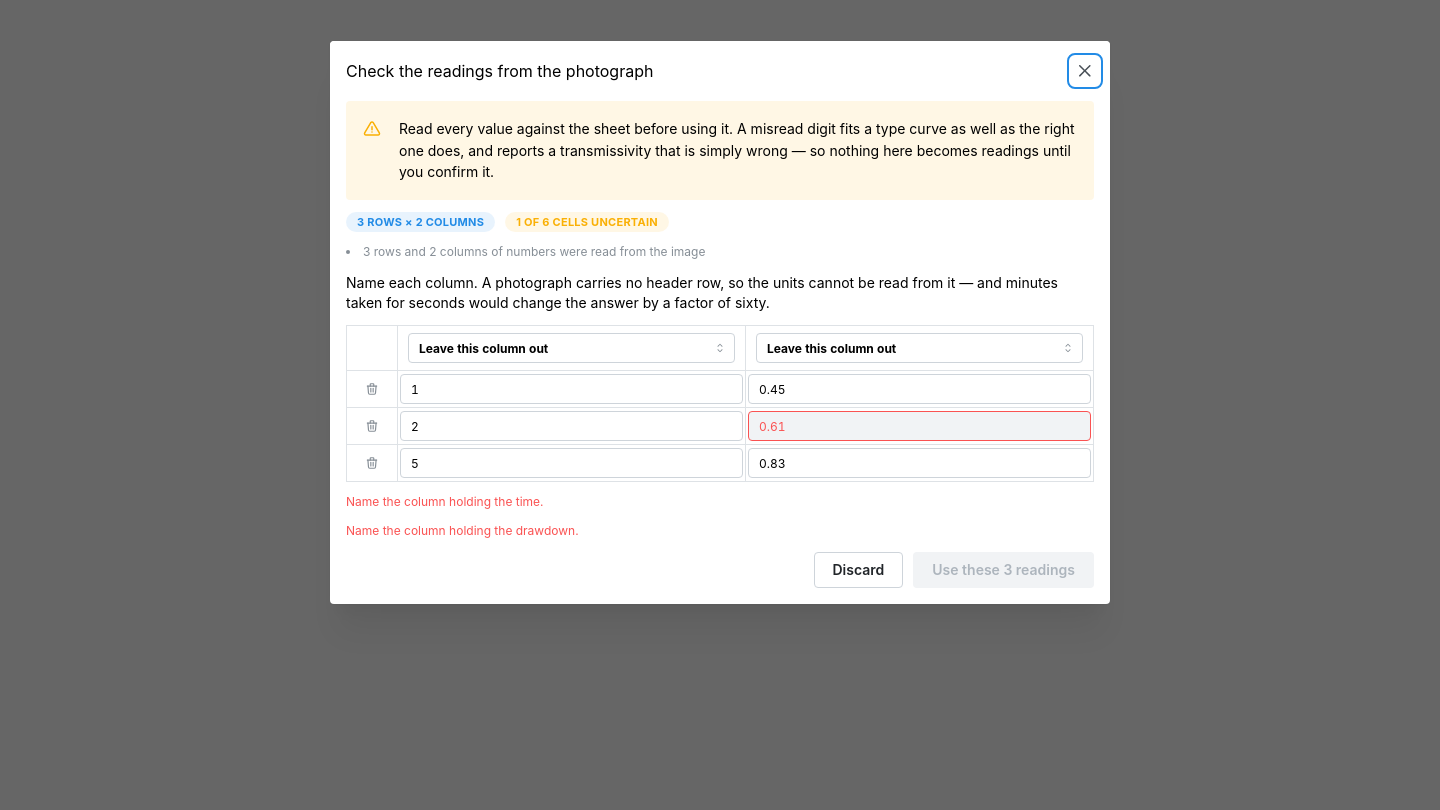
Test: OCRGrid › refuses a cell that is not a number
This screenshot has width=1440, height=810.
Click the field named "Column 1" at (572, 348), box [408, 333, 735, 363]
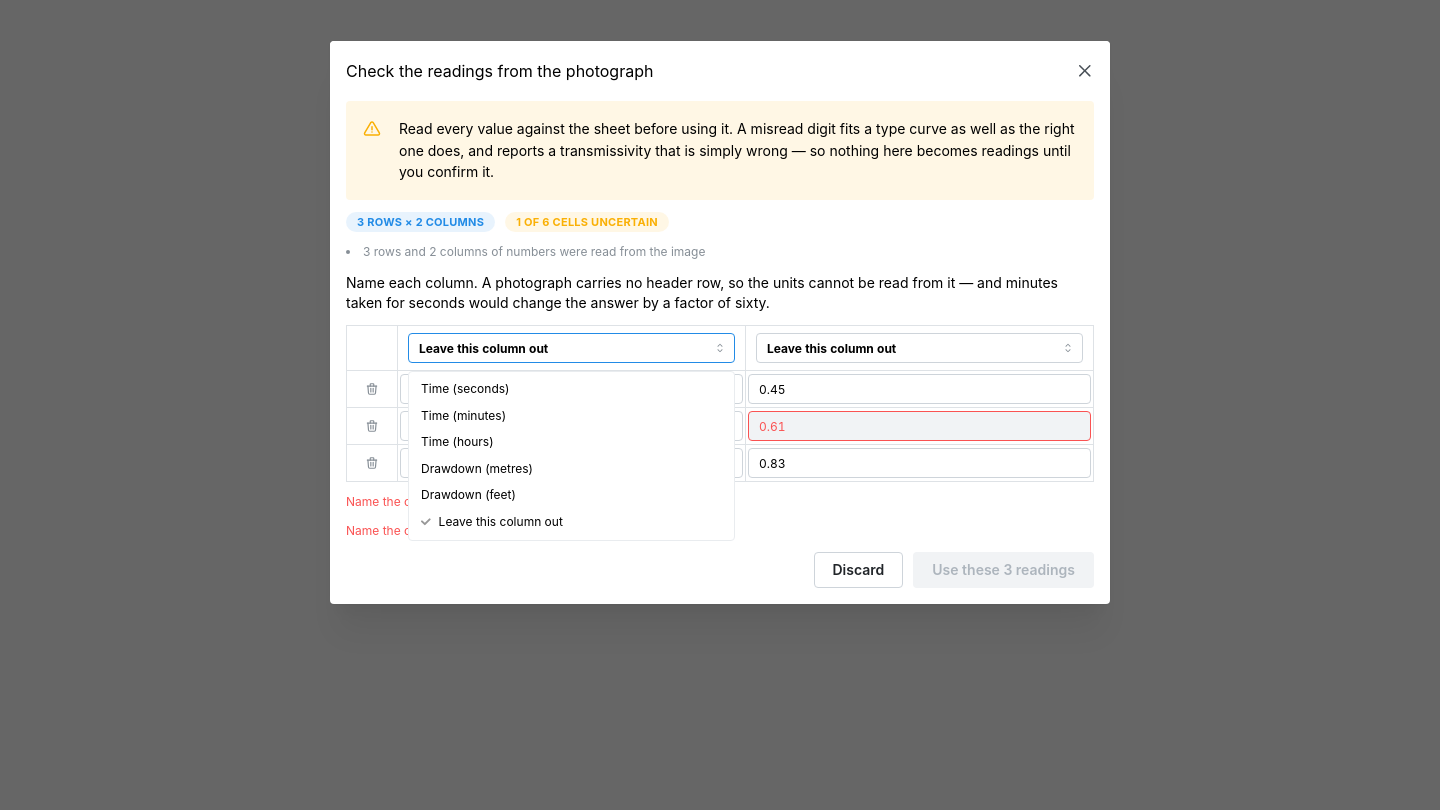
Click the option "Time (minutes)" at (464, 415), box [421, 408, 506, 422]
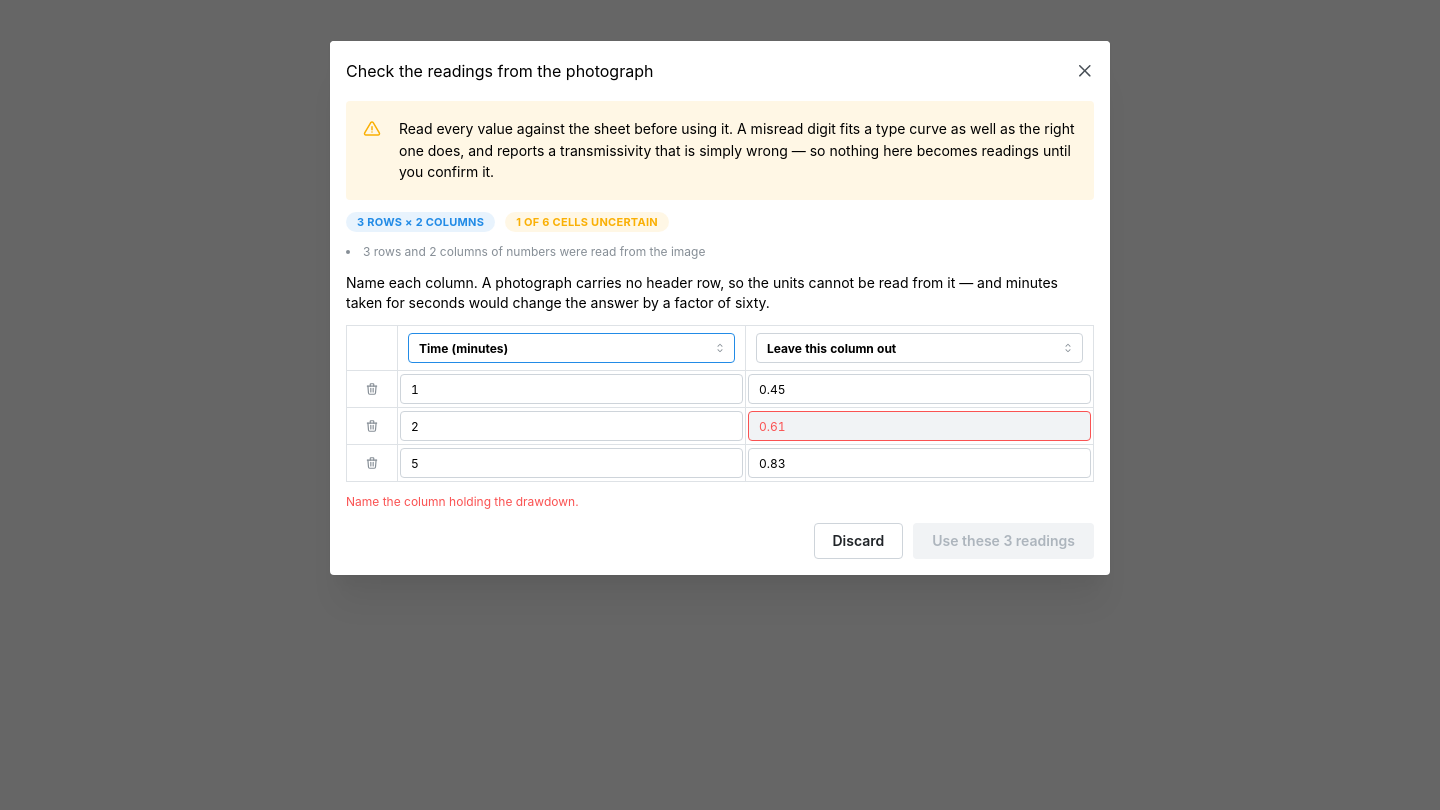
Click the field named "Column 2" at (920, 348), box [756, 333, 1083, 363]
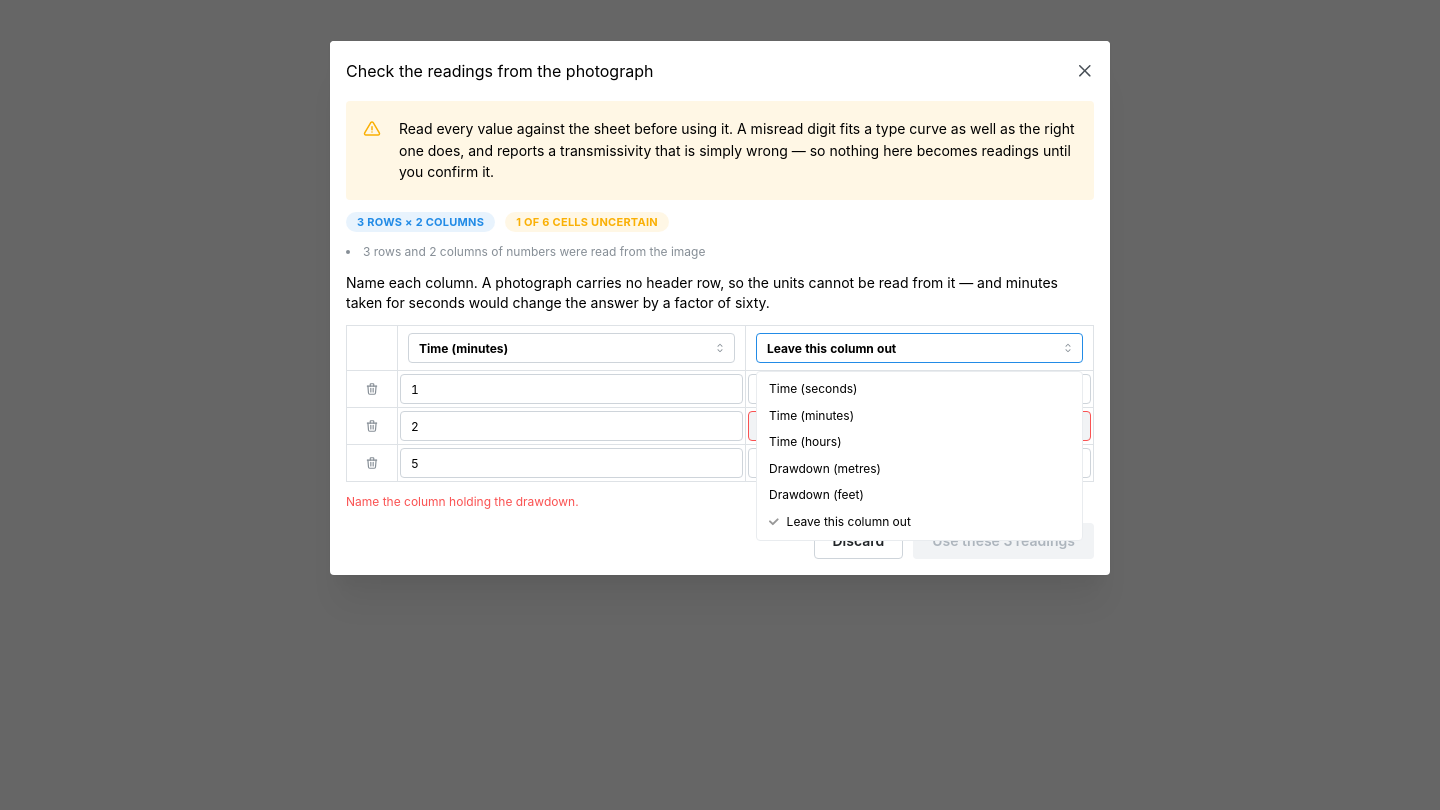
Click the option "Drawdown (metres)" at (825, 468), box [769, 461, 881, 476]
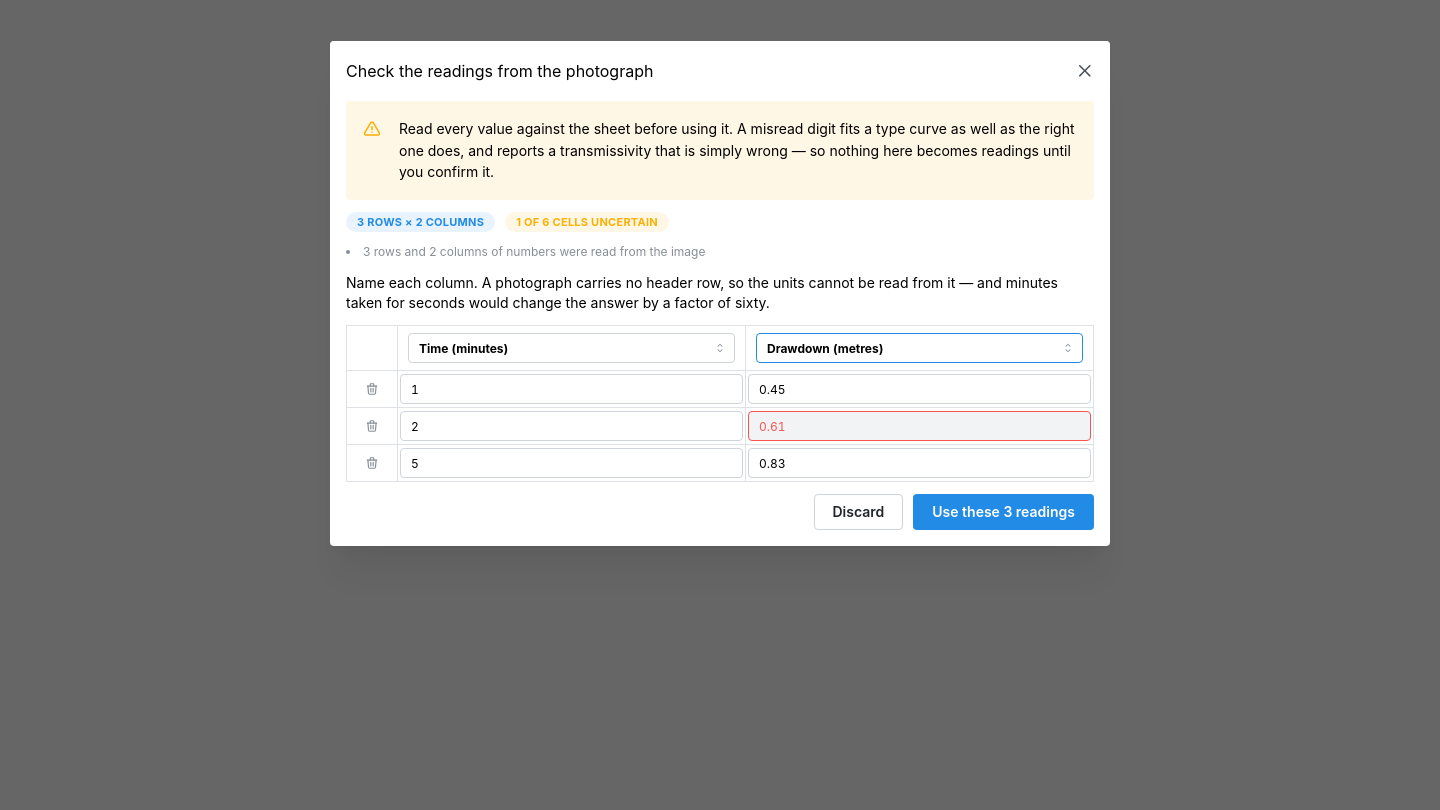
Replace the text in the field named "Row 1 column 2" with "0.4o" at (920, 389), box [748, 374, 1091, 404]
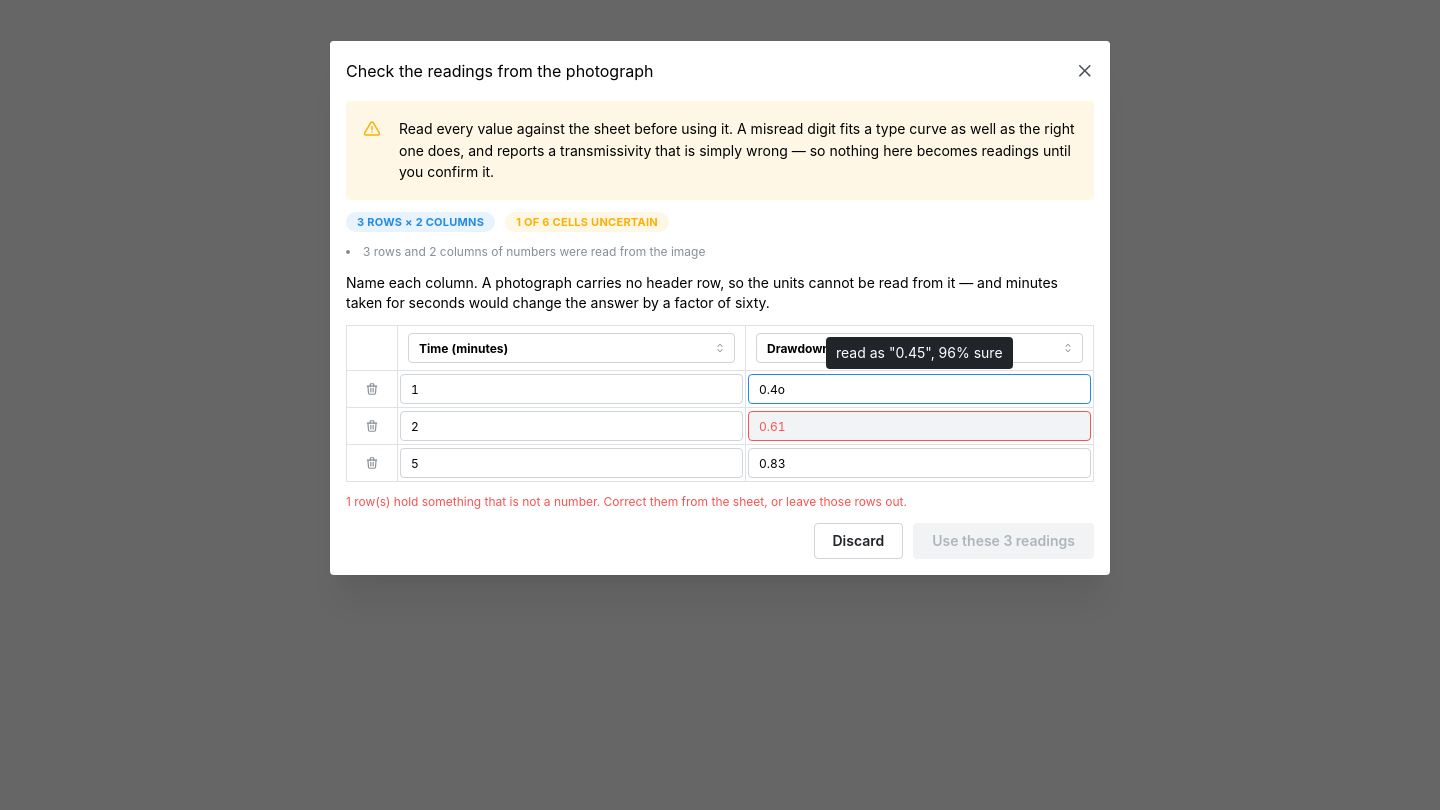
expect the button "Use these 3 readings" is disabled: met, box [913, 523, 1094, 559]
expect the text "not a number" is shown: met, box [351, 494, 907, 509]
